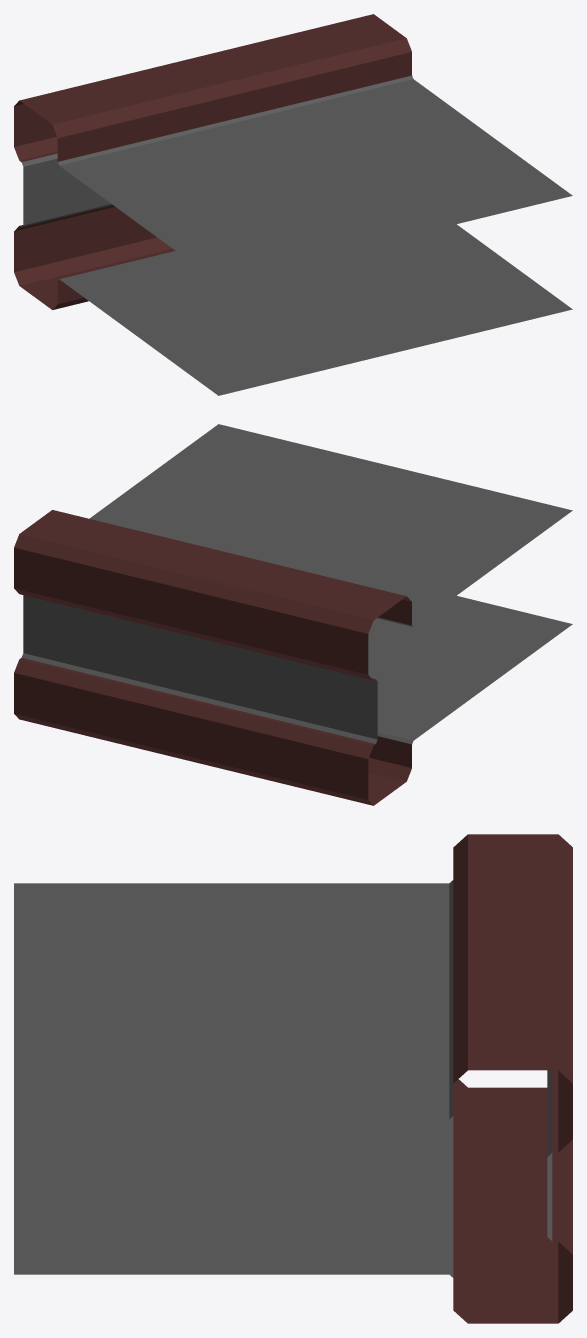
Rendered from tfPlatform_Side.fbx.
The picture shows the model from 3 angles, top to bottom: view 1: azimuth 30°, elevation 25°; view 2: azimuth 150°, elevation 25°; view 3: azimuth 270°, elevation 25°; orthographic projection. The views are drawn at different scales.
Visible parts, largest first — view 1: polySurface39; view 2: polySurface39; view 3: polySurface39.
Part boxes in pixels (x1,y1,x2,y2): polySurface39: [14, 14, 572, 395]; polySurface39: [14, 424, 572, 805]; polySurface39: [14, 834, 572, 1323].
Bounding box in the file's own units: 200 × 100 × 200.
